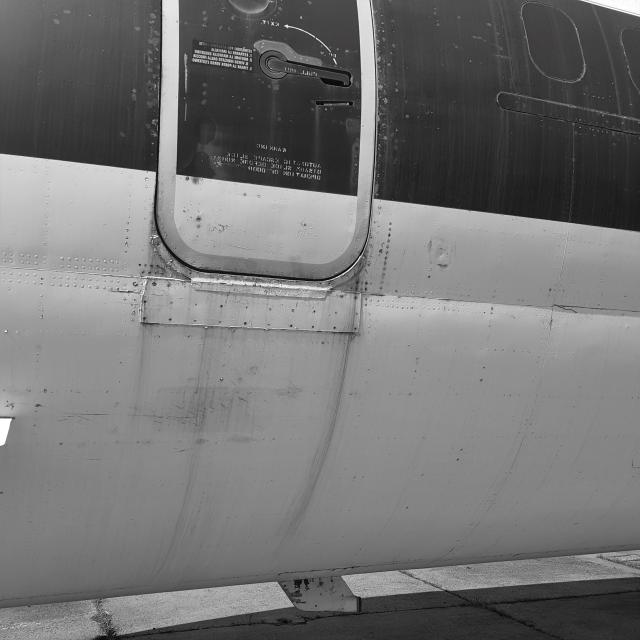Rupture: (553, 301, 585, 320)
